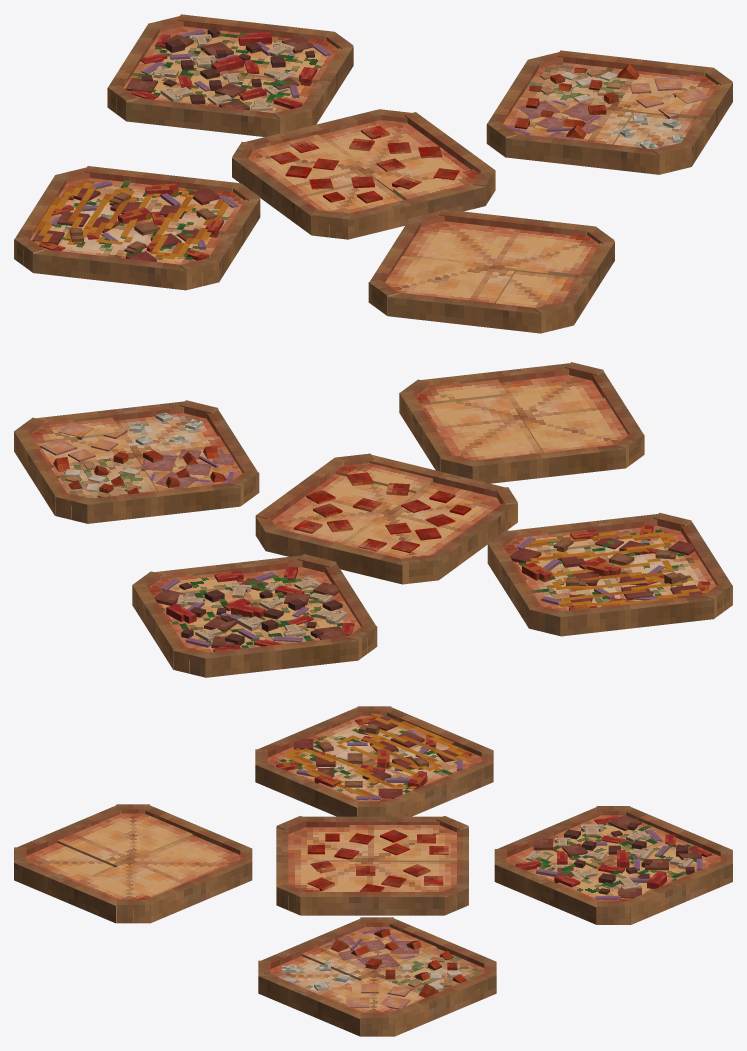
The model's file is pizza.glb.
3 renders of one model, top to bottom at view 1: azimuth 30°, elevation 25°; view 2: azimuth 150°, elevation 25°; view 3: azimuth 270°, elevation 25°, orthographic. The views are drawn at different scales.
Visible parts, largest first — view 1: cube_255, cube_164, cube_254, cube_231, cube_263, cube_54, cube_193, cube_151, cube_2, cube_163, cube_189, cube_187 (+40 smaller); view 2: cube_255, cube_254, cube_164, cube_193, cube_49, cube_226, cube_132, cube_258, cube_182, cube_2, cube_163, cube_187 (+40 smaller); view 3: cube_255, cube_254, cube_188, cube_193, cube_163, cube_164, cube_2, cube_55, cube_264, cube_159, cube_250, cube_265 (+35 smaller).
Part boxes in pixels (x1=…): cube_255: x1=403, y1=221, x2=570, y2=274; cube_164: x1=319, y1=120, x2=470, y2=191; cube_254: x1=385, y1=256, x2=516, y2=303; cube_231: x1=32, y1=249, x2=186, y2=290; cube_263: x1=387, y1=292, x2=541, y2=333; cube_54: x1=505, y1=133, x2=658, y2=174; cube_193: x1=34, y1=182, x2=232, y2=259; cube_151: x1=126, y1=97, x2=279, y2=136; cube_2: x1=521, y1=62, x2=688, y2=115; cube_163: x1=248, y1=134, x2=376, y2=197; cube_189: x1=347, y1=183, x2=485, y2=239; cube_187: x1=232, y1=157, x2=317, y2=235; cube_255: x1=421, y1=396, x2=542, y2=460; cube_254: x1=515, y1=398, x2=627, y2=452; cube_164: x1=272, y1=474, x2=415, y2=544; cube_193: x1=520, y1=531, x2=709, y2=608; cube_49: x1=84, y1=483, x2=240, y2=523; cube_226: x1=558, y1=595, x2=714, y2=636; cube_132: x1=202, y1=637, x2=358, y2=677; cube_258: x1=469, y1=444, x2=625, y2=483; cube_182: x1=265, y1=527, x2=402, y2=584; cube_2: x1=36, y1=435, x2=157, y2=507; cube_163: x1=344, y1=504, x2=475, y2=570; cube_187: x1=432, y1=503, x2=517, y2=579; cube_255: x1=98, y1=835, x2=240, y2=897; cube_254: x1=57, y1=813, x2=192, y2=867; cube_188: x1=300, y1=892, x2=444, y2=915; cube_193: x1=285, y1=713, x2=471, y2=799; cube_163: x1=349, y1=825, x2=456, y2=861; cube_164: x1=319, y1=862, x2=456, y2=899; cube_2: x1=345, y1=948, x2=496, y2=1010; cube_55: x1=386, y1=971, x2=496, y2=1036; cube_264: x1=142, y1=858, x2=252, y2=923; cube_159: x1=623, y1=860, x2=732, y2=924; cube_250: x1=383, y1=760, x2=493, y2=816; cube_265: x1=14, y1=861, x2=117, y2=923.
Bounding box in the file's own units: 3.09 × 0.1065 × 3.02.
Materials: 4 (4 with a texture image).
